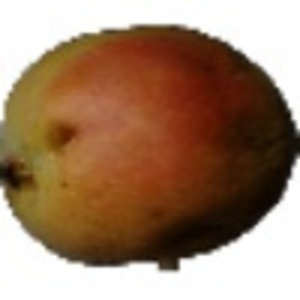mamão: (7, 18, 294, 259)
